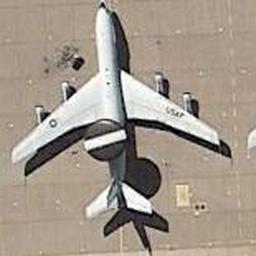Airplane: (10, 0, 229, 230)
